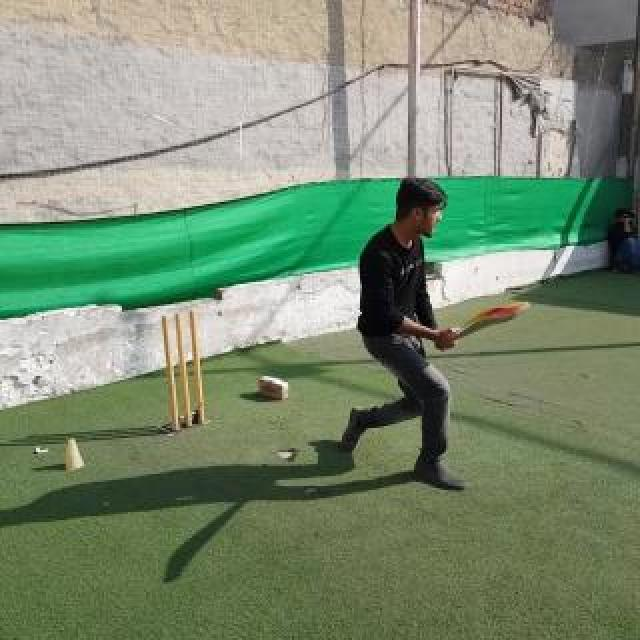bat: (438, 302, 530, 352)
